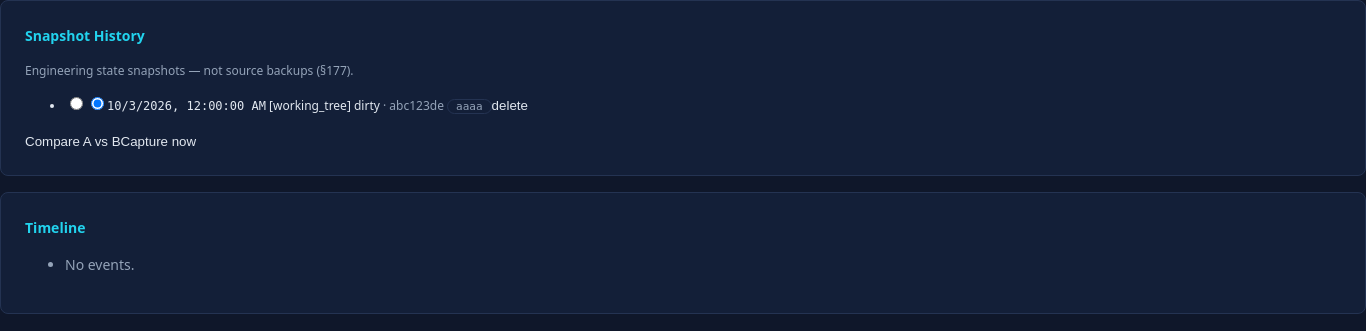
Test: SnapshotHistoryPage (M11b GUI §127-§133) › delete requires the per-row button and refreshes (§62)
Expected: the element with test id "history-list" is shown, [0,0,1365,176]
Click the button with aria-label "delete snap:1": {"x": 510, "y": 106} [492,98,528,113]
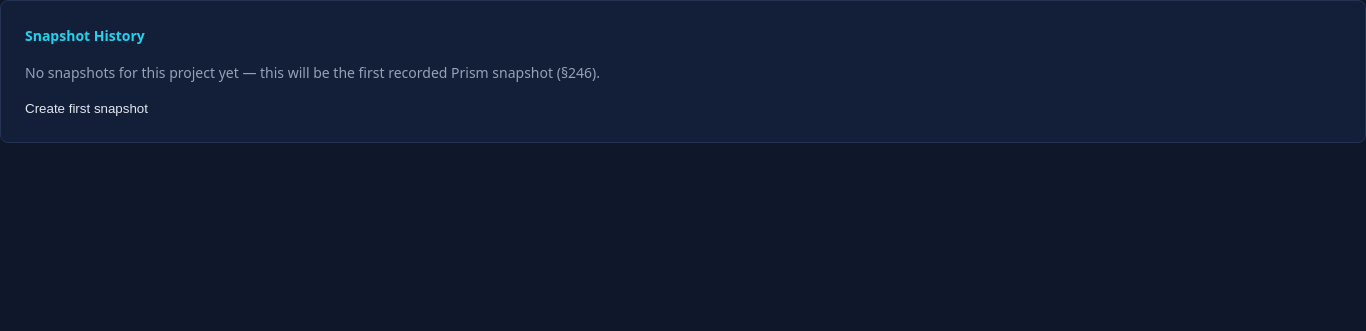
Expected: the element with test id "history-empty" is shown, [0,0,1365,143]
